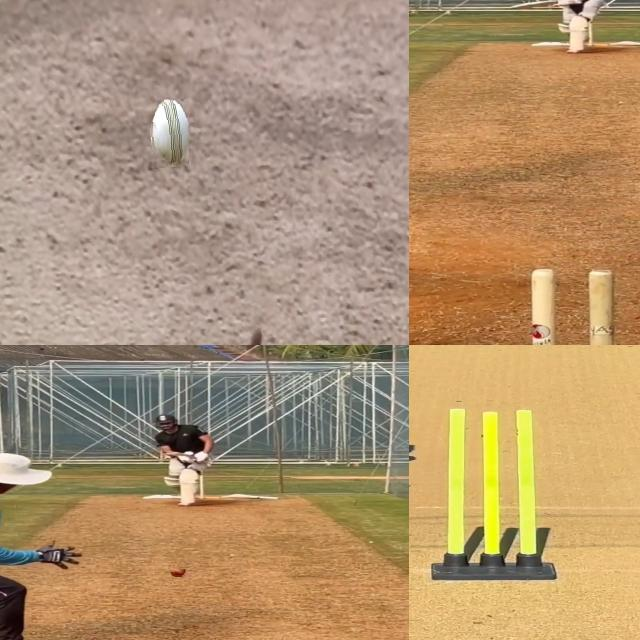Cricket ball: (149, 99, 189, 169), (169, 569, 187, 577)
Stumps: (428, 405, 554, 585), (526, 266, 640, 345)
